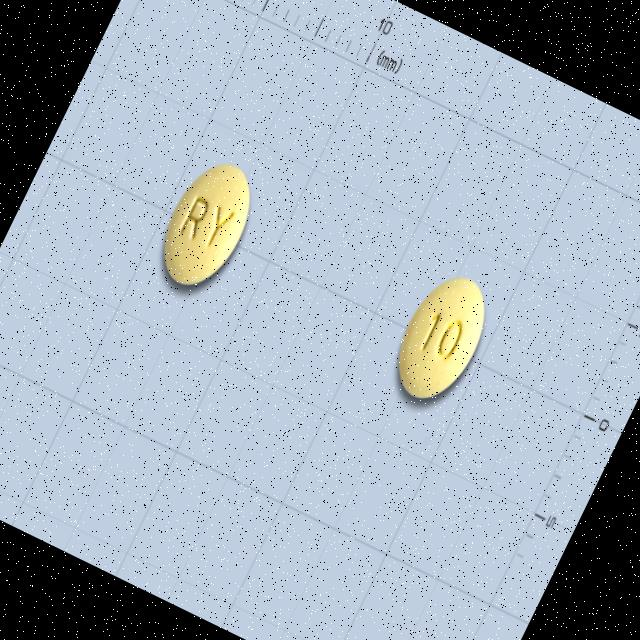Crabacter Tab: (144, 150, 268, 300), (382, 261, 503, 412)
